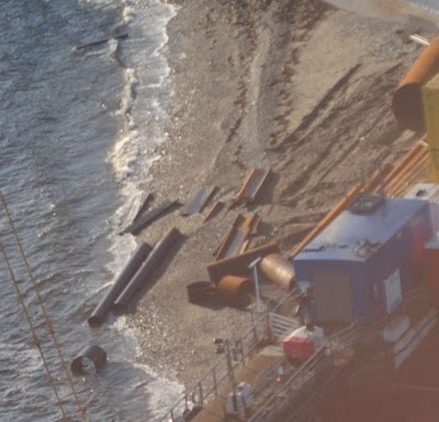cuboid: (235, 163, 274, 206)
scattered_barrel: (81, 156, 301, 333)
straight_bar: (114, 228, 179, 317), (86, 239, 148, 329), (204, 243, 285, 281), (119, 195, 182, 240), (178, 181, 221, 223)
white_in_green: (48, 323, 126, 394)
